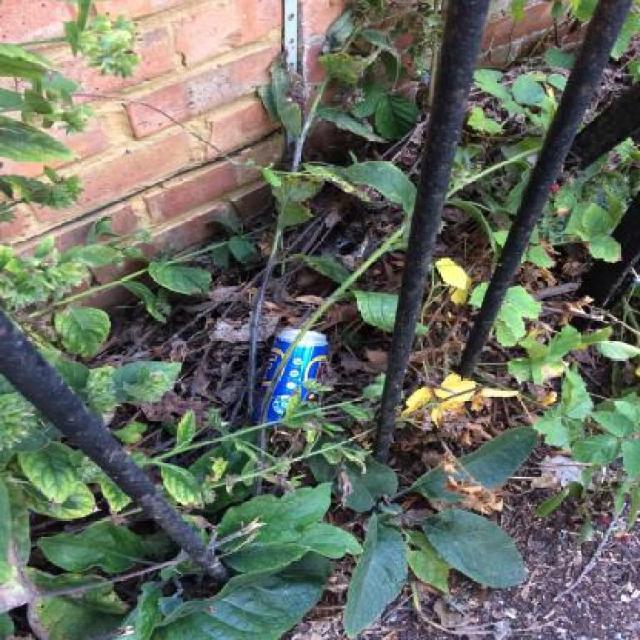Garbage: (252, 329, 329, 424)
